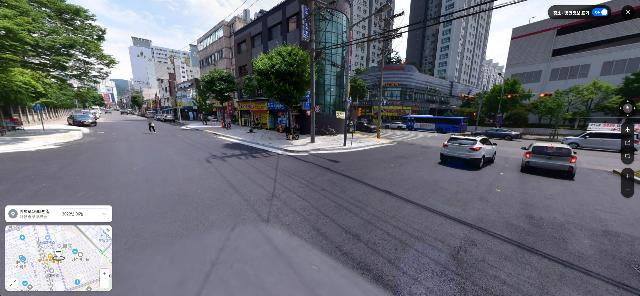other: (0, 0, 122, 120), (253, 41, 312, 140), (556, 79, 632, 139), (0, 44, 43, 120), (480, 82, 532, 126), (201, 69, 237, 129), (236, 74, 258, 133), (195, 75, 215, 125), (531, 96, 564, 124), (349, 77, 369, 109), (131, 91, 145, 115)
